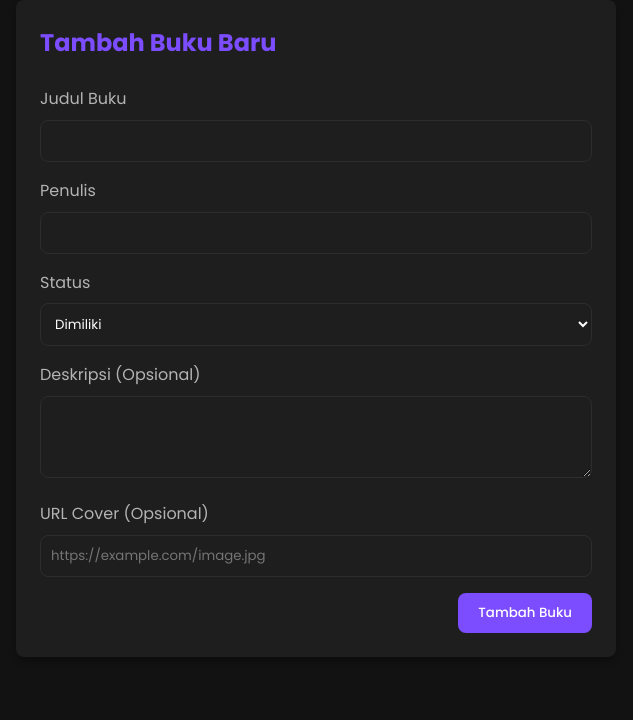
Test case: BookForm Component › shows validation errors when form is submitted with empty fields
// Submit form without filling required fields
Click the button "Tambah Buku" at x=525, y=613, box left=458, top=593, right=592, bottom=633
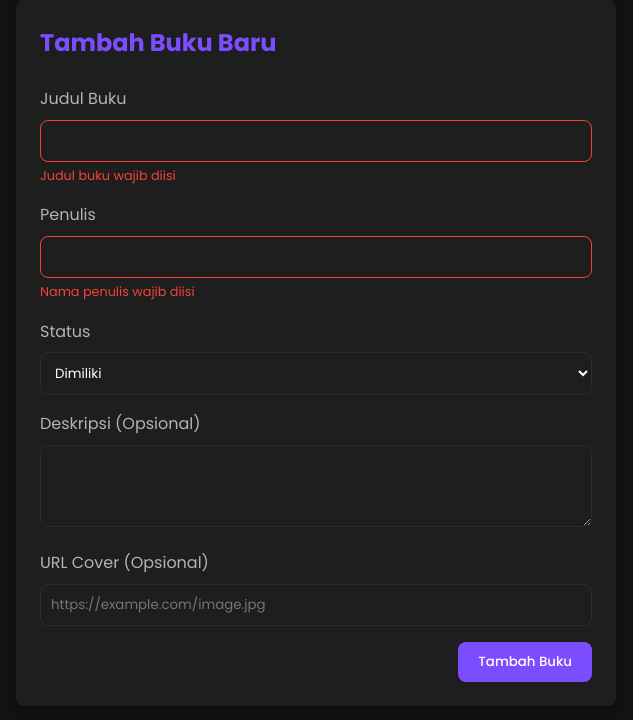
Check: the text "Judul buku wajib diisi" is shown, box left=40, top=167, right=176, bottom=184
Check: the text "Nama penulis wajib diisi" is shown, box left=40, top=283, right=195, bottom=300
